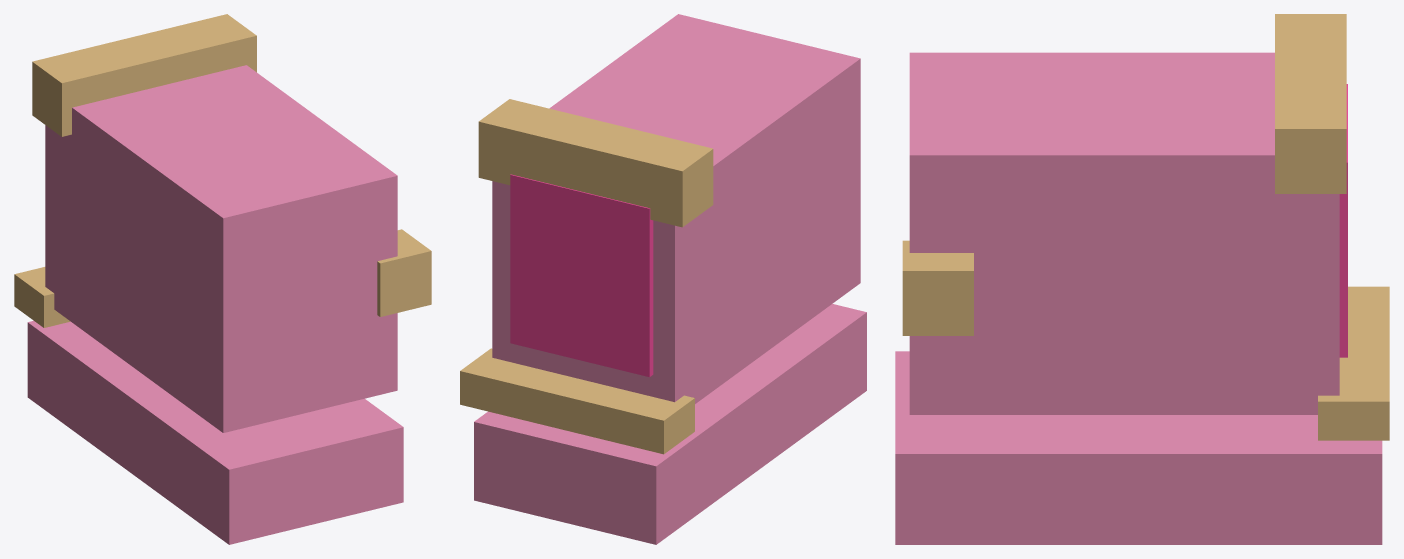
File: HoloSight.obj
3 views of the same model, side by side, from view 1: azimuth 30°, elevation 25°; view 2: azimuth 150°, elevation 25°; view 3: azimuth 270°, elevation 25° (orthographic). The views are drawn at different scales.
Visible parts, largest first — view 1: HoloSight_Body, HoloSight_Detail; view 2: HoloSight_Body, HoloSight_Detail, Lens; view 3: HoloSight_Body, HoloSight_Detail, Lens.
Part boxes in pixels (left/top/right/bottom): HoloSight_Body: left=27, top=65, right=403, bottom=544; HoloSight_Detail: left=14, top=14, right=431, bottom=327; HoloSight_Body: left=474, top=14, right=866, bottom=544; HoloSight_Detail: left=460, top=99, right=713, bottom=454; Lens: left=510, top=174, right=653, bottom=377; HoloSight_Body: left=895, top=52, right=1382, bottom=544; HoloSight_Detail: left=902, top=14, right=1389, bottom=440; Lens: left=1339, top=84, right=1347, bottom=357.
Size of the model in its own units: 0.21 by 0.325 by 0.345.
